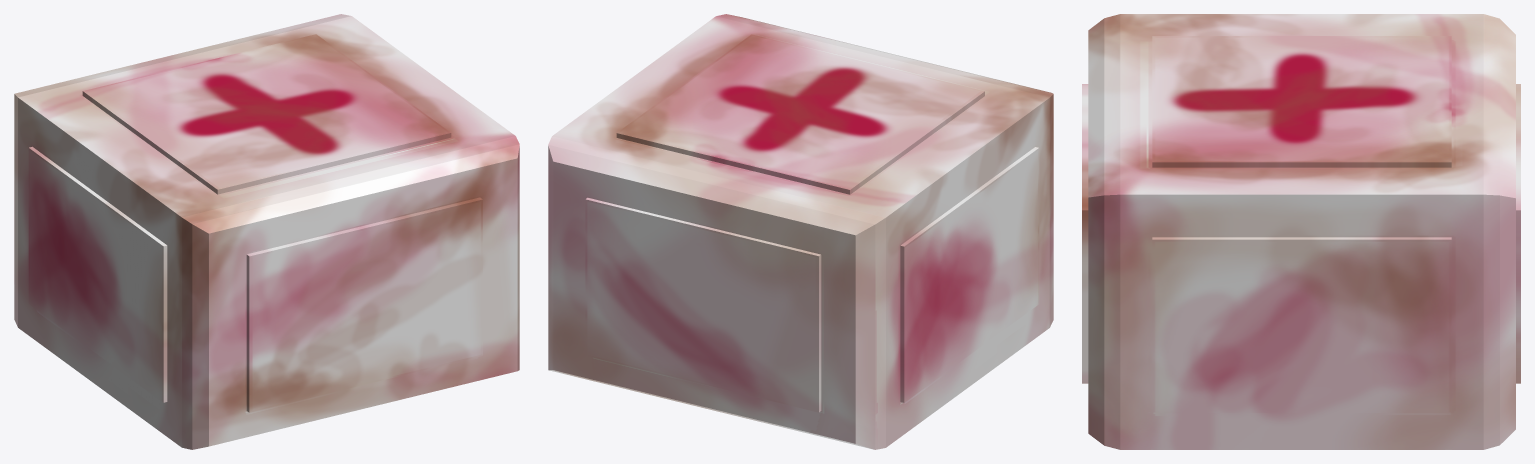
File: healthBox.fbx
3 views of the same model, side by side, from view 1: azimuth 30°, elevation 25°; view 2: azimuth 150°, elevation 25°; view 3: azimuth 270°, elevation 25° (orthographic). The views are drawn at different scales.
Parts seen in each view (by area): view 1: Cube; view 2: Cube; view 3: Cube.
Boxes of the visible parts, x1=… form: Cube: x1=14, y1=14, x2=519, y2=449; Cube: x1=548, y1=14, x2=1053, y2=449; Cube: x1=1082, y1=14, x2=1520, y2=449.
Size of the model in its own units: 205 by 135 by 205.
